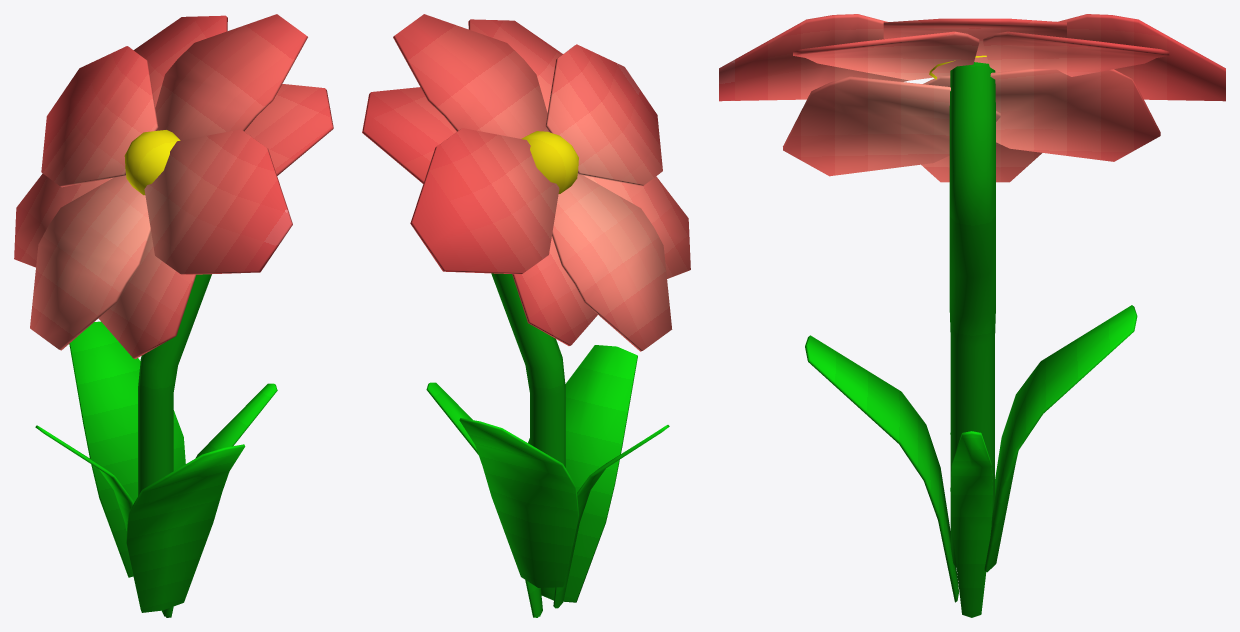
File: flower_day.fbx
3 renders of one model, left to right at view 1: azimuth 30°, elevation 25°; view 2: azimuth 150°, elevation 25°; view 3: azimuth 270°, elevation 25°, orthographic. The views are drawn at different scales.
Parts seen in each view (by area): view 1: Cylinder; view 2: Cylinder; view 3: Cylinder.
Boxes of the visible parts, x1,y1,x2,y2 form: Cylinder: [14, 14, 333, 617]; Cylinder: [362, 14, 690, 617]; Cylinder: [719, 14, 1225, 617].
Size of the model in its own units: 63.78 by 132 by 90.38.
